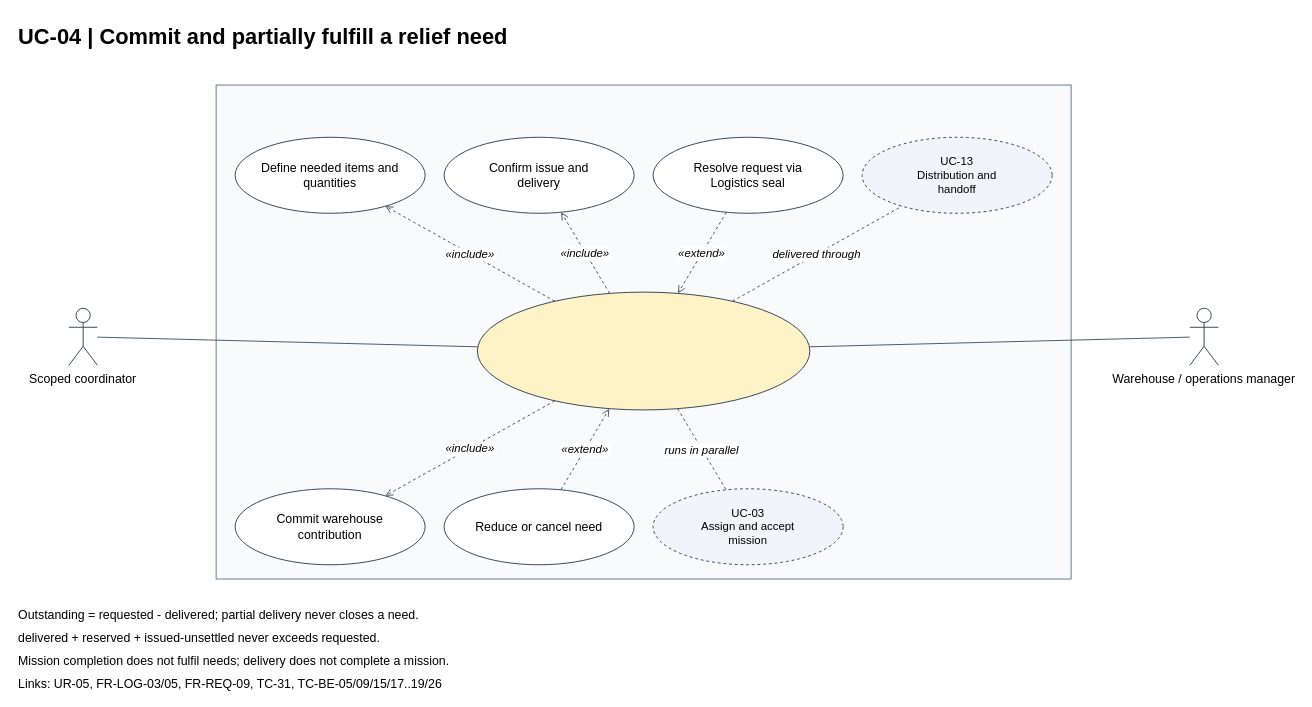
Image size: 1312x707. Some labels were removed from this diagram. Here are the shapes that lost their labels. From the top down, the box of each, then its label:
(215, 84, 1071, 579): C48 system
(476, 291, 810, 410): UC-04 Commit and partially fulfill a relief need
